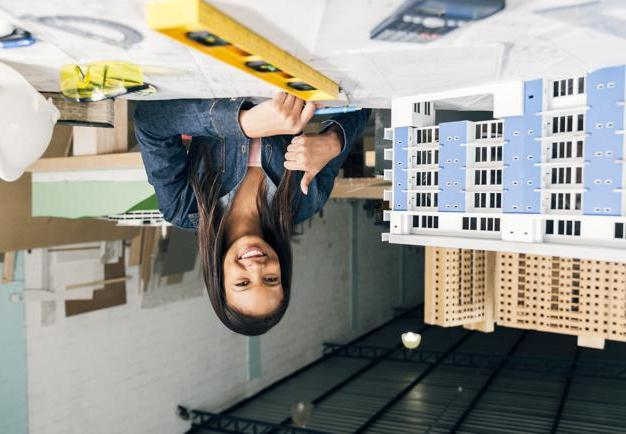thumbsdown: (283, 136, 314, 196)
